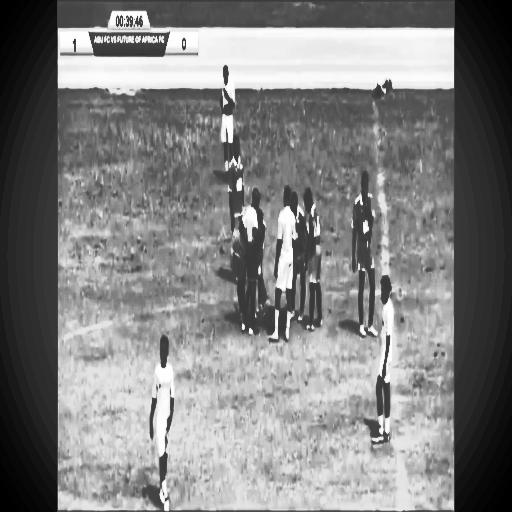team1: (142, 334, 179, 512), (271, 185, 297, 343), (372, 273, 393, 444), (219, 50, 233, 162)
team2: (354, 160, 380, 342), (303, 179, 328, 336), (290, 175, 308, 326), (228, 136, 243, 228)
